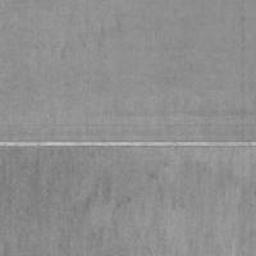Welding line: (0, 141, 256, 147)
